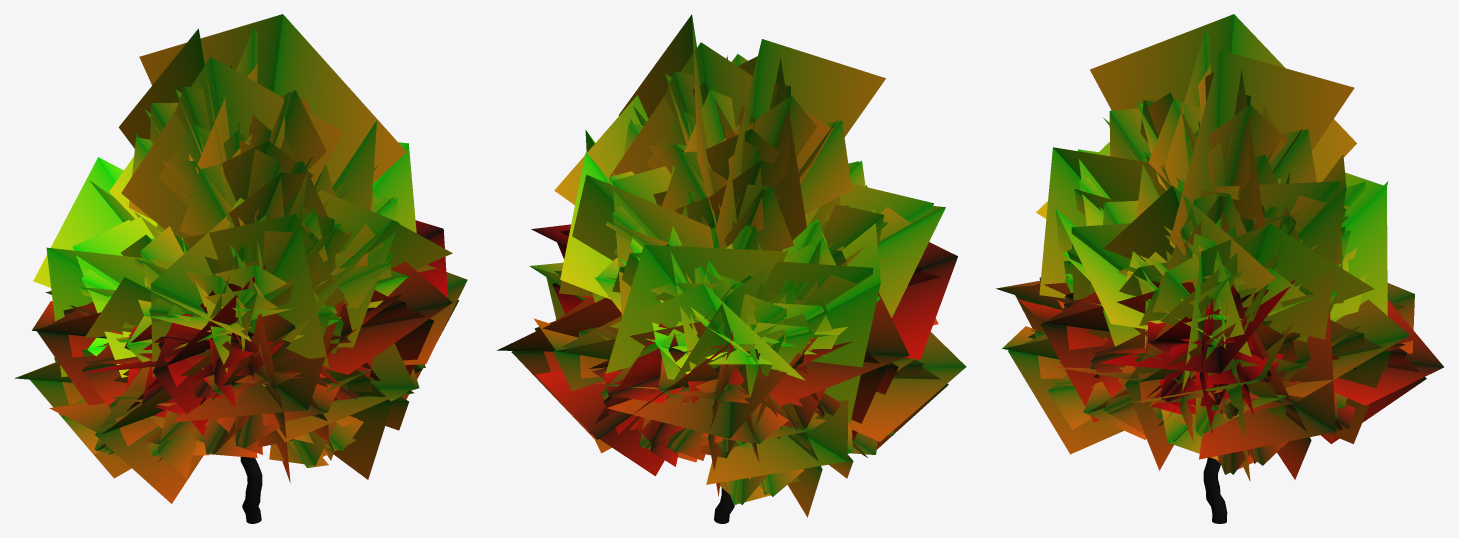
File: linden_tree_8.FBX
3 views of the same model, side by side, from view 1: azimuth 30°, elevation 25°; view 2: azimuth 150°, elevation 25°; view 3: azimuth 270°, elevation 25° (orthographic). The views are drawn at different scales.
Parts seen in each view (by area): view 1: linden_leaves_shadow, linden_leaves_lod_0, linden_trunk_lod_0; view 2: linden_leaves_shadow, linden_leaves_lod_0; view 3: linden_leaves_shadow, linden_leaves_lod_0, linden_trunk_lod_0.
Boxes of the visible parts, x1=… form: linden_leaves_shadow: x1=15, y1=14, x2=467, y2=503; linden_leaves_lod_0: x1=54, y1=63, x2=425, y2=478; linden_trunk_lod_0: x1=240, y1=331, x2=262, y2=523; linden_leaves_shadow: x1=497, y1=14, x2=966, y2=517; linden_leaves_lod_0: x1=534, y1=54, x2=923, y2=504; linden_leaves_shadow: x1=996, y1=14, x2=1443, y2=481; linden_leaves_lod_0: x1=1028, y1=65, x2=1407, y2=474; linden_trunk_lod_0: x1=1203, y1=457, x2=1227, y2=523.
Size of what is drawn, in the model's own units: 20.08 by 24.25 by 20.29.
